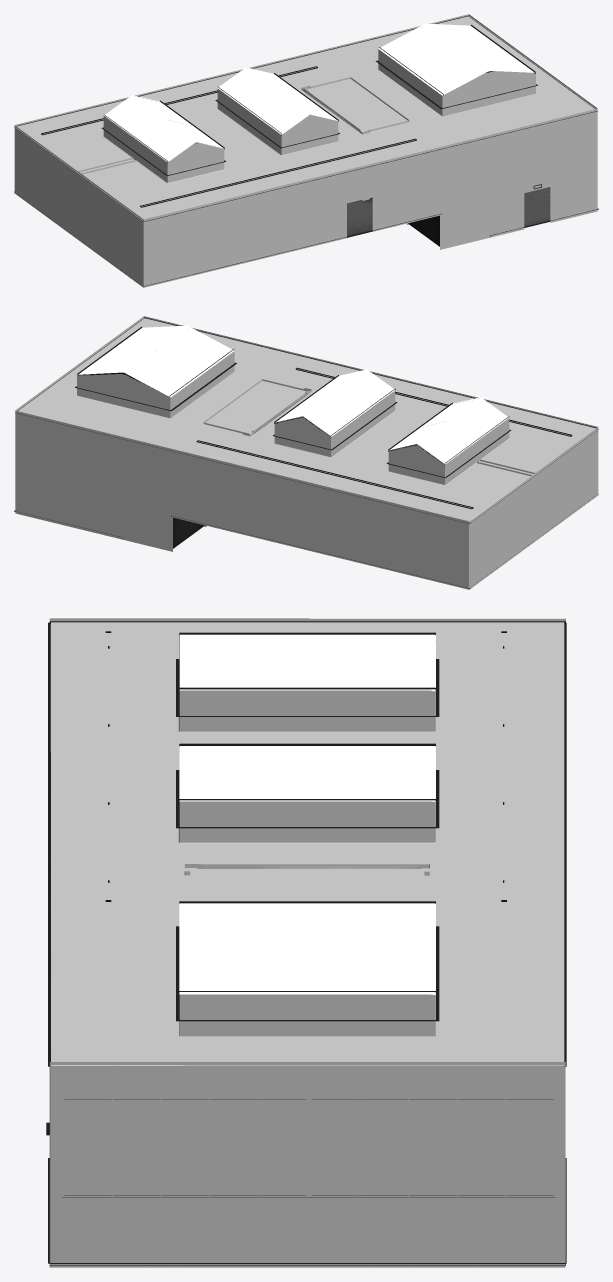
Rendered from ARTGALLARY2.fbx.
3 renders of one model, top to bottom at view 1: azimuth 30°, elevation 25°; view 2: azimuth 150°, elevation 25°; view 3: azimuth 270°, elevation 25°, orthographic. The views are drawn at different scales.
Visible parts, largest first — view 1: ceiling, walls, corner, floor, skyLight; view 2: ceiling, walls, corner, skyLight, floor; view 3: ceiling, walls, skyLight, corner, Window.
Boxes of the visible parts, bbox=[...] form: ceiling: bbox=[15, 16, 595, 220]; walls: bbox=[14, 14, 597, 287]; corner: bbox=[14, 15, 598, 286]; floor: bbox=[347, 187, 598, 246]; skyLight: bbox=[101, 24, 537, 175]; ceiling: bbox=[17, 318, 597, 522]; walls: bbox=[15, 316, 598, 589]; corner: bbox=[14, 317, 598, 588]; skyLight: bbox=[75, 326, 511, 478]; floor: bbox=[14, 511, 204, 548]; ceiling: bbox=[51, 622, 564, 1065]; walls: bbox=[49, 618, 565, 1267]; skyLight: bbox=[176, 632, 439, 1021]; corner: bbox=[48, 621, 566, 1264]; Window: bbox=[62, 1099, 555, 1197].
Size of the model in its own units: 3060 by 915 by 1512.
